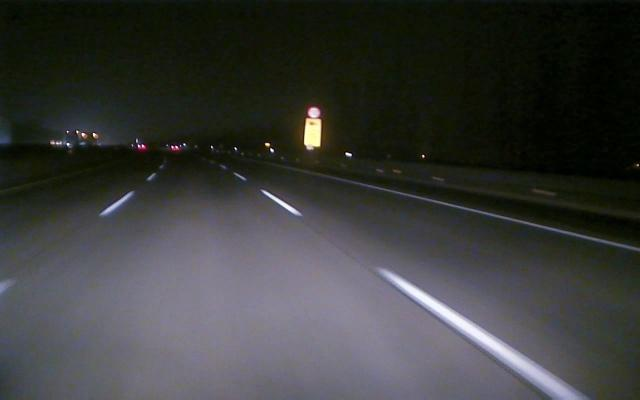lane: (233, 174, 588, 397), (356, 181, 640, 252), (1, 172, 156, 292)
